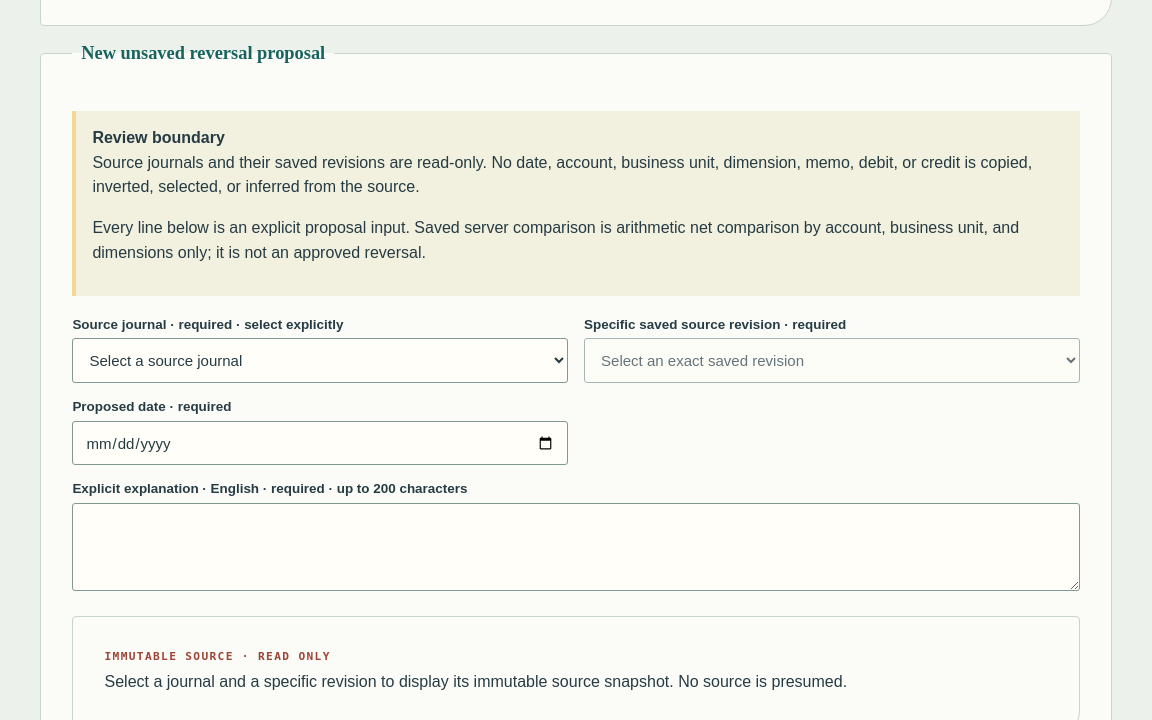
Test: clearing source selection cancels stale source loading and permits a later fresh selection
The image size is (1152, 720).
(page scrolled)
Select "Journal 71 · Source journal 71 · current revision 2 · journal" in the dropdown named "Source journal" at (320, 361), box 72,338 -> 568,383
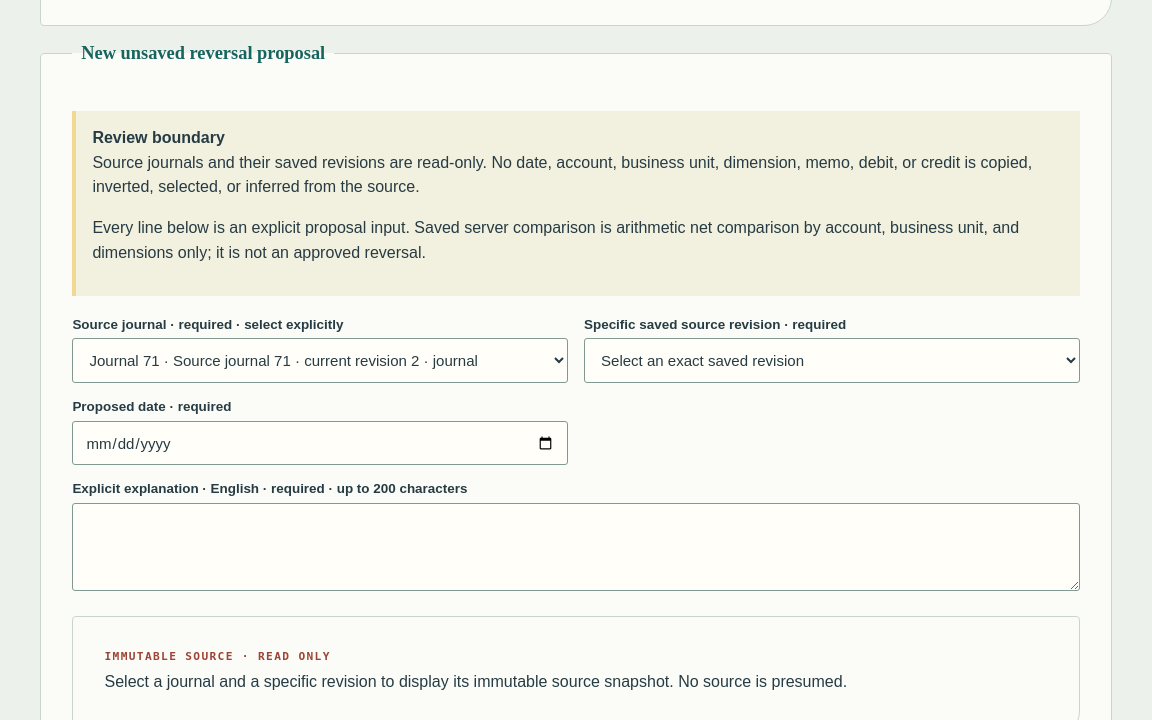
Select "Revision 2" in the dropdown named "Source revision" at (832, 361), box 584,338 -> 1080,383
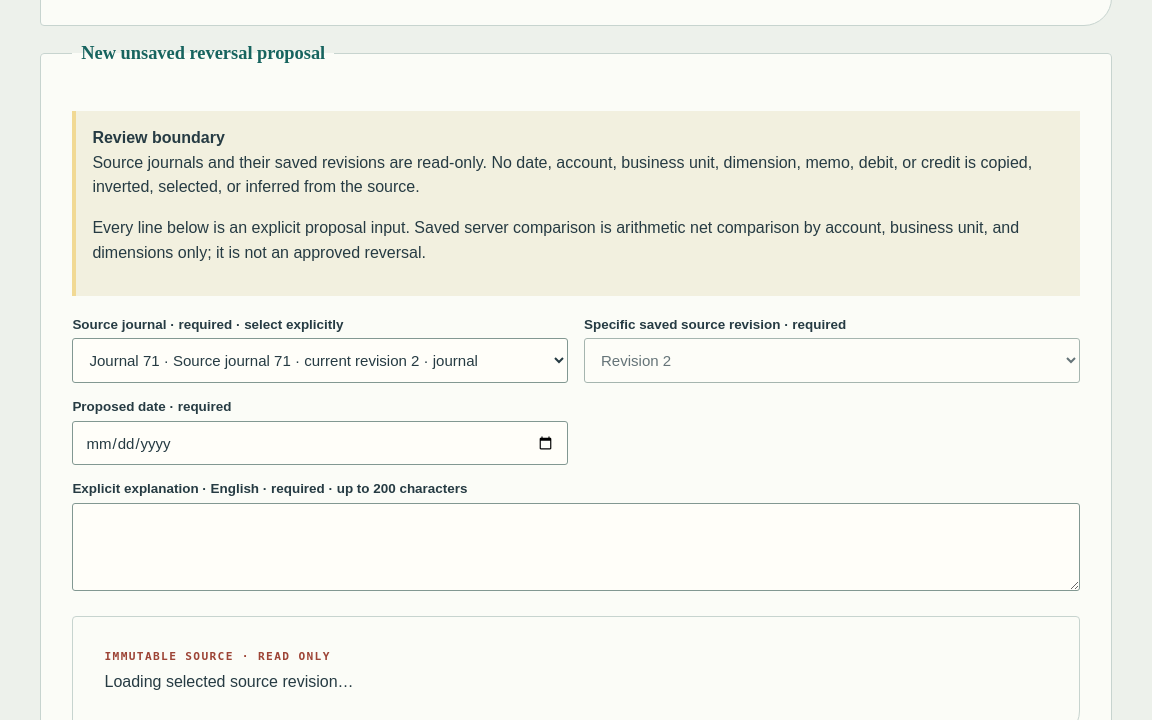
Check: the text "Loading selected source revision" is shown, box 104,673 -> 354,690
Select "Select a source journal" in the dropdown named "Source journal" at (320, 361), box 72,338 -> 568,383
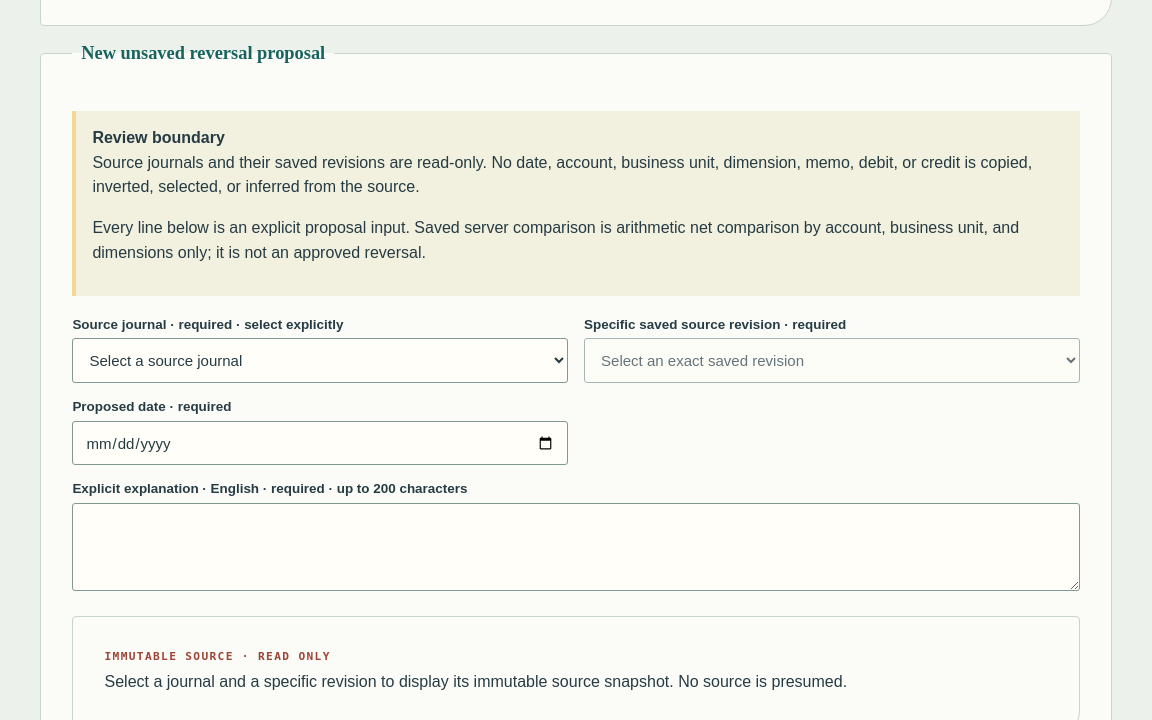
Check: the element named "Read-only source journal snapshot" does not show "Source journal 71"
Check: the text "Loading selected source revision" is gone
Select "Journal 71 · Source journal 71 · current revision 2 · journal" in the dropdown named "Source journal" at (320, 361), box 72,338 -> 568,383
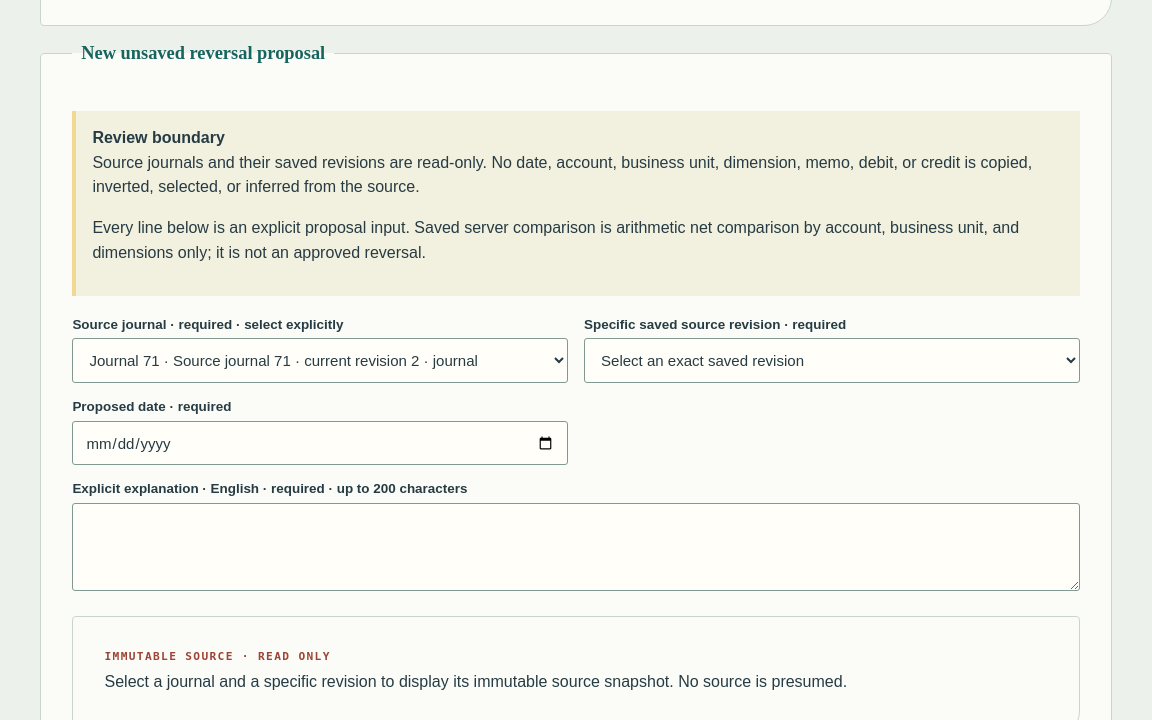
Select "Revision 2" in the dropdown named "Source revision" at (832, 361), box 584,338 -> 1080,383
(page scrolled)
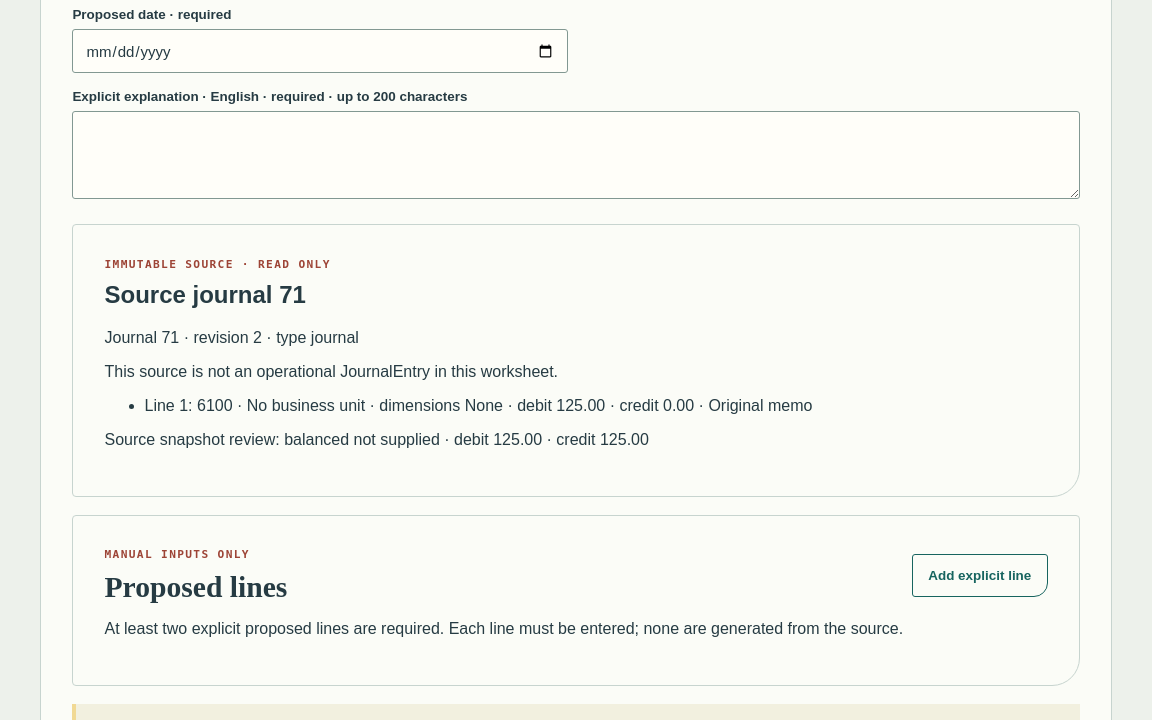
Check: the element named "Read-only source journal snapshot" shows "Source journal 71", box 104,281 -> 306,308
